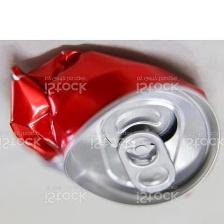can: (8, 45, 221, 209)
